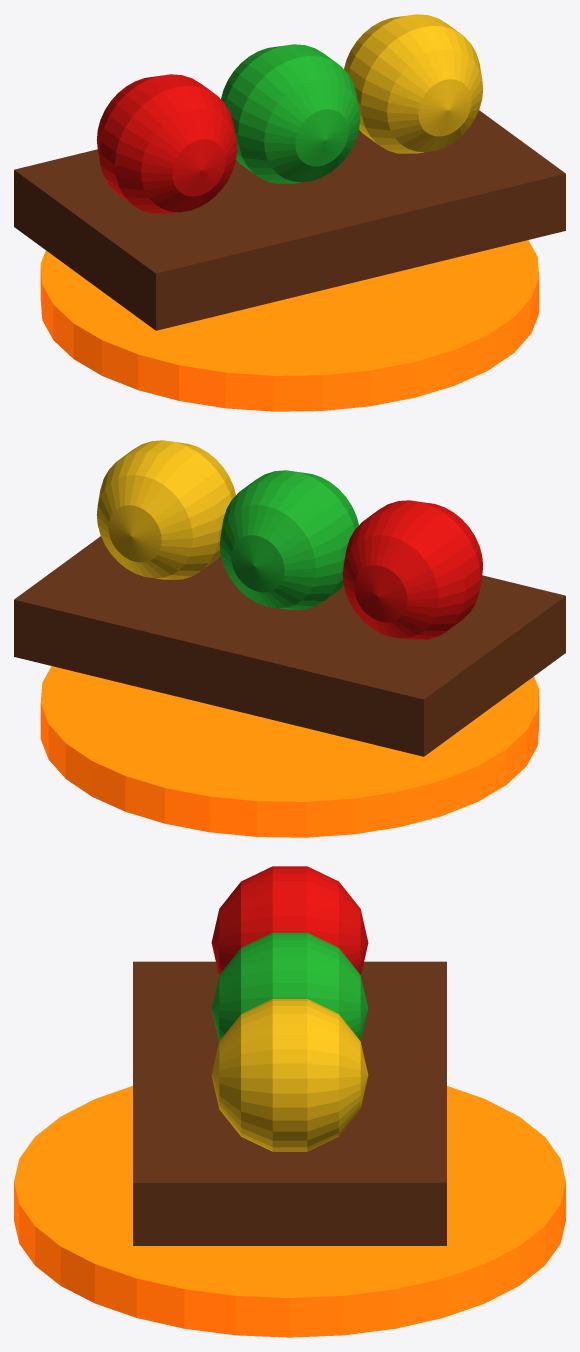
File: spanish_tapas.dae
The picture shows the model from 3 angles, top to bottom: view 1: azimuth 30°, elevation 25°; view 2: azimuth 150°, elevation 25°; view 3: azimuth 270°, elevation 25°; orthographic projection. The views are drawn at different scales.
Parts seen in each view (by area): view 1: 11_10_Popular_Spanish_Tapas_part_01, 11_10_Popular_Spanish_Tapas_ROOT_base, 11_10_Popular_Spanish_Tapas_part_02, 11_10_Popular_Spanish_Tapas_part_04, 11_10_Popular_Spanish_Tapas_part_03; view 2: 11_10_Popular_Spanish_Tapas_part_01, 11_10_Popular_Spanish_Tapas_ROOT_base, 11_10_Popular_Spanish_Tapas_part_02, 11_10_Popular_Spanish_Tapas_part_04, 11_10_Popular_Spanish_Tapas_part_03; view 3: 11_10_Popular_Spanish_Tapas_ROOT_base, 11_10_Popular_Spanish_Tapas_part_01, 11_10_Popular_Spanish_Tapas_part_04, 11_10_Popular_Spanish_Tapas_part_03, 11_10_Popular_Spanish_Tapas_part_02.
Part boxes in pixels (x1,y1,x2,y2): 11_10_Popular_Spanish_Tapas_part_01: (14, 110, 565, 330); 11_10_Popular_Spanish_Tapas_ROOT_base: (40, 240, 539, 411); 11_10_Popular_Spanish_Tapas_part_02: (97, 74, 237, 213); 11_10_Popular_Spanish_Tapas_part_04: (344, 14, 483, 153); 11_10_Popular_Spanish_Tapas_part_03: (221, 44, 360, 183); 11_10_Popular_Spanish_Tapas_part_01: (14, 536, 565, 756); 11_10_Popular_Spanish_Tapas_ROOT_base: (40, 666, 539, 837); 11_10_Popular_Spanish_Tapas_part_02: (342, 500, 482, 639); 11_10_Popular_Spanish_Tapas_part_04: (96, 440, 235, 579); 11_10_Popular_Spanish_Tapas_part_03: (219, 470, 358, 609); 11_10_Popular_Spanish_Tapas_ROOT_base: (14, 1086, 565, 1337); 11_10_Popular_Spanish_Tapas_part_01: (133, 961, 446, 1245); 11_10_Popular_Spanish_Tapas_part_04: (211, 999, 368, 1151); 11_10_Popular_Spanish_Tapas_part_03: (211, 932, 368, 1041); 11_10_Popular_Spanish_Tapas_part_02: (211, 866, 368, 975).
Bounding box in the file's own units: 0.76 × 0.4273 × 0.76.
